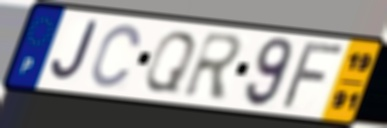9: (243, 36, 295, 109)
C: (88, 22, 143, 90)
F: (277, 41, 350, 111)
J: (48, 19, 100, 85)
Q: (141, 30, 199, 95)
R: (180, 30, 248, 101)
